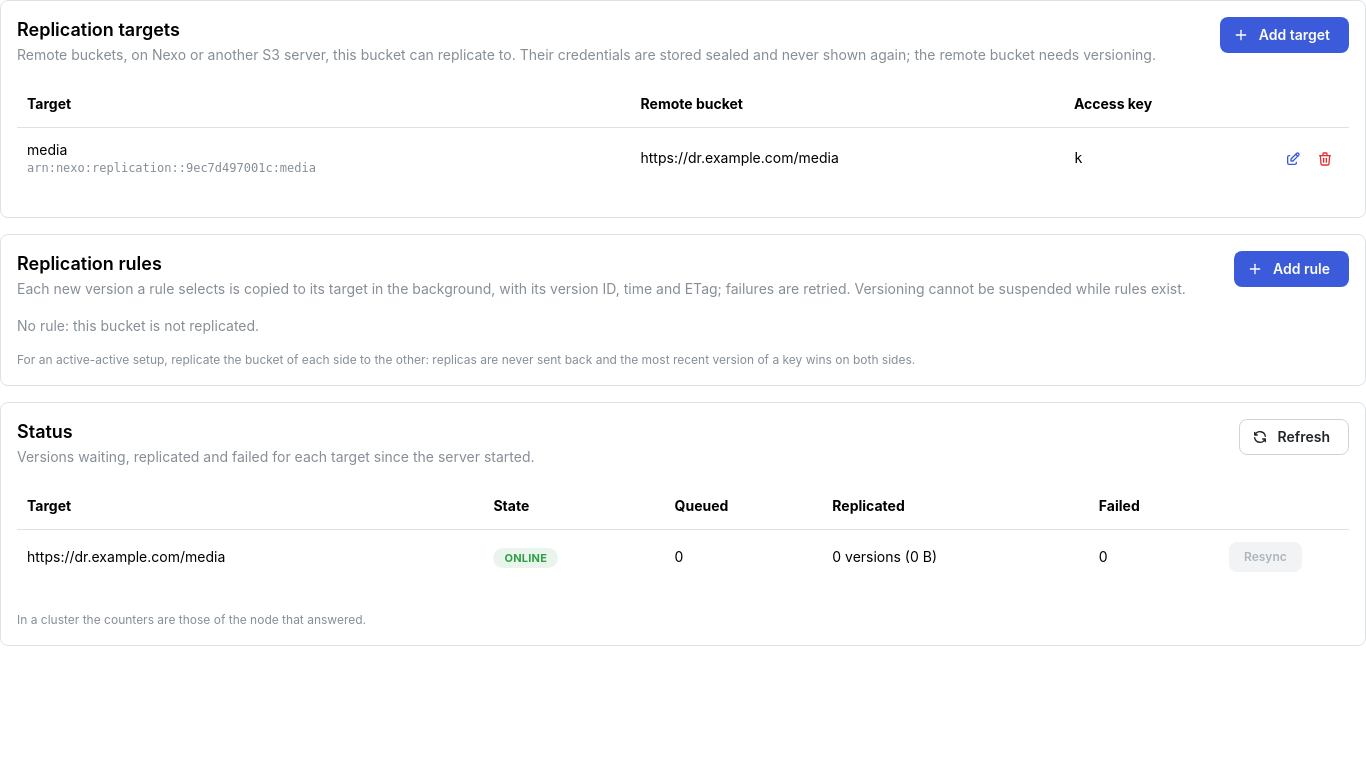
Test: BucketReplicationTab › refuses a rule on a bucket without versioning
Click the button "Add rule" at (1292, 269), box [1234,251,1349,287]
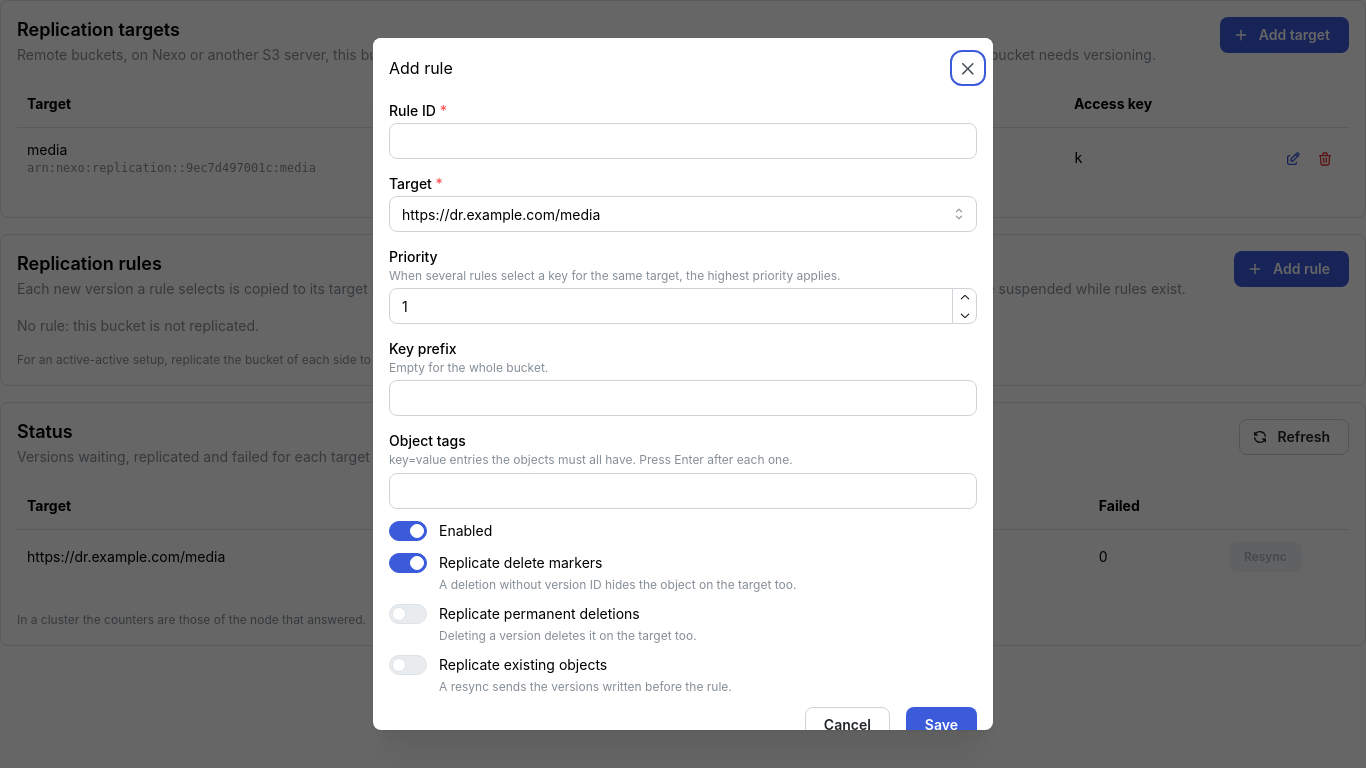
Type "all" into the field labelled "Rule ID *" at (683, 141), box [389,123,977,159]
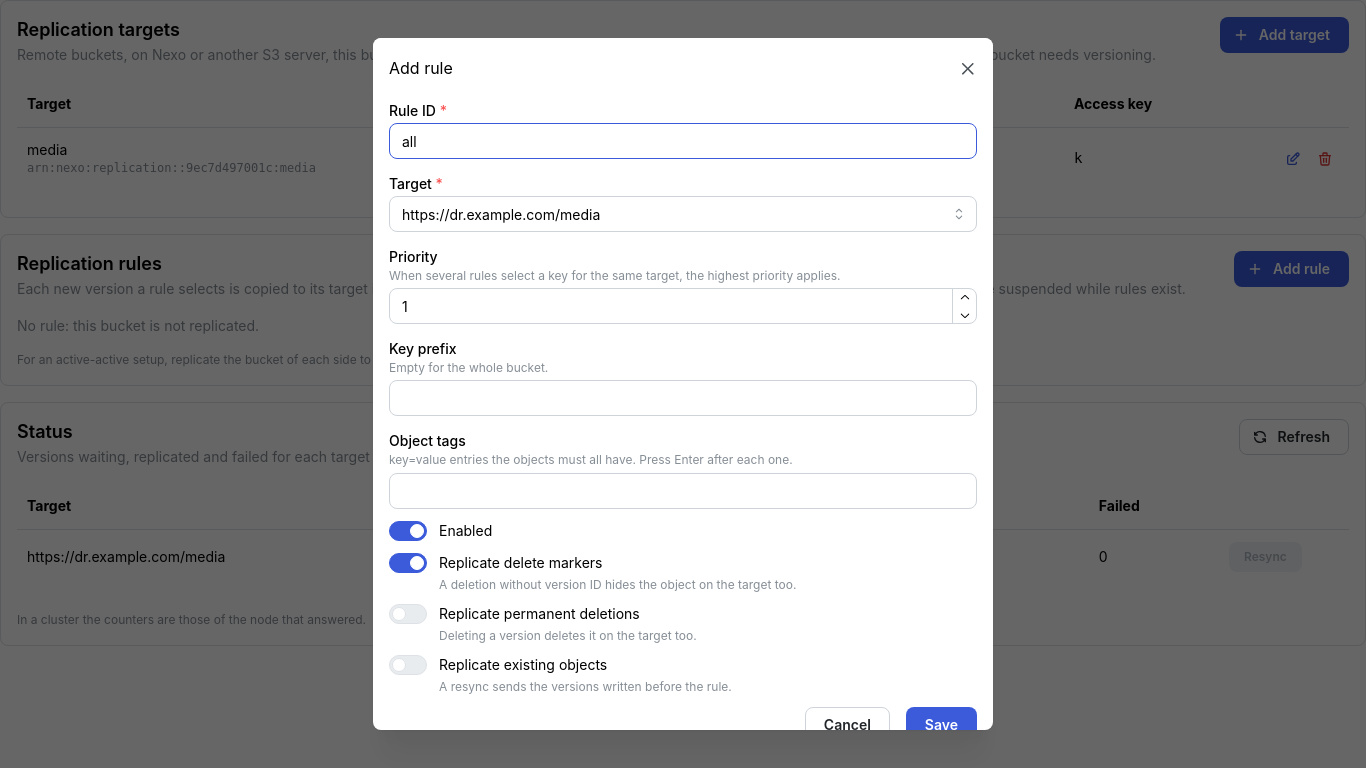
Click the button "Save" at (941, 725), box [906,707,977,743]
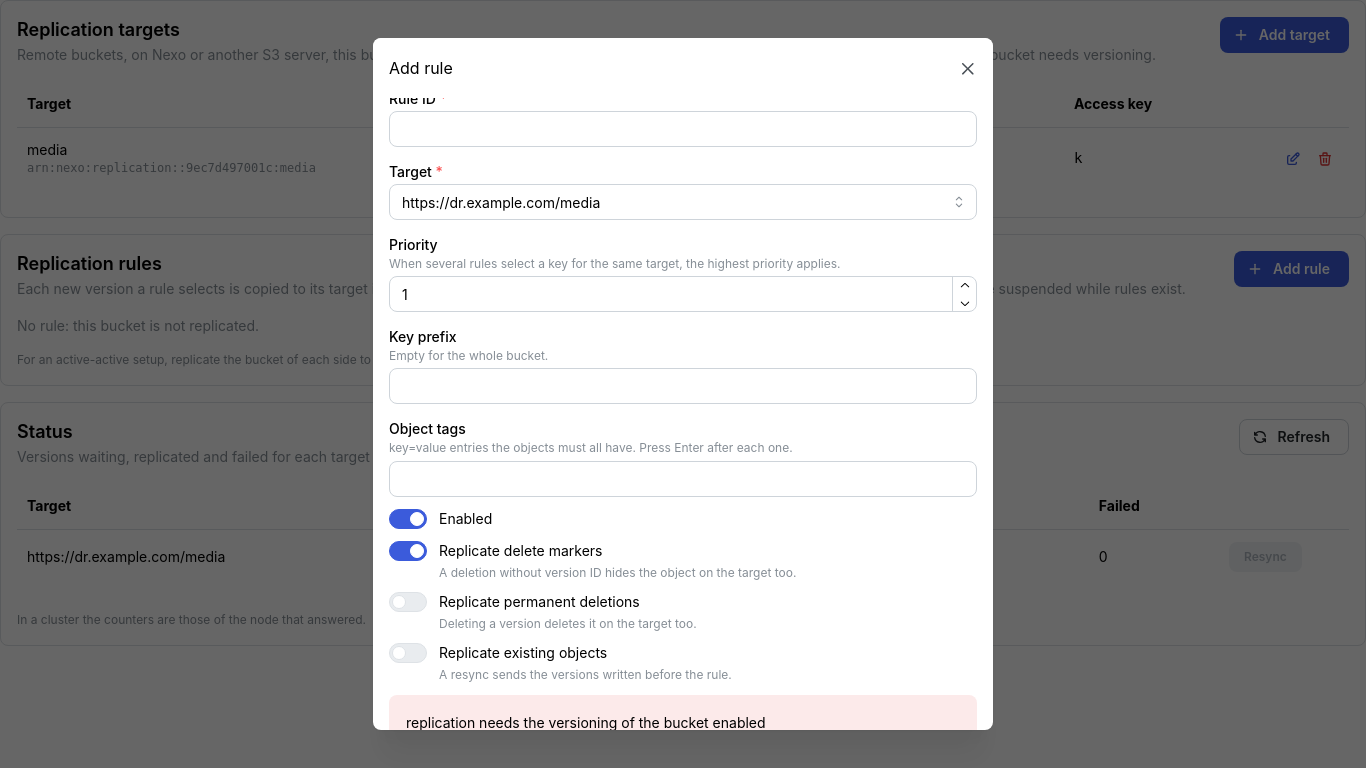
Result: the message shows "versioning" at [406,714,766,730]
